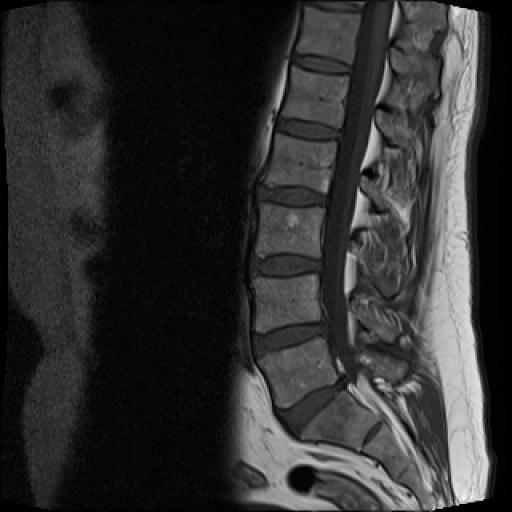L1: (281, 64, 350, 130)
L2: (261, 133, 337, 197)
L3: (255, 202, 324, 260)
L4: (254, 275, 321, 334)
L5: (258, 338, 336, 409)
S1: (300, 388, 382, 451)
